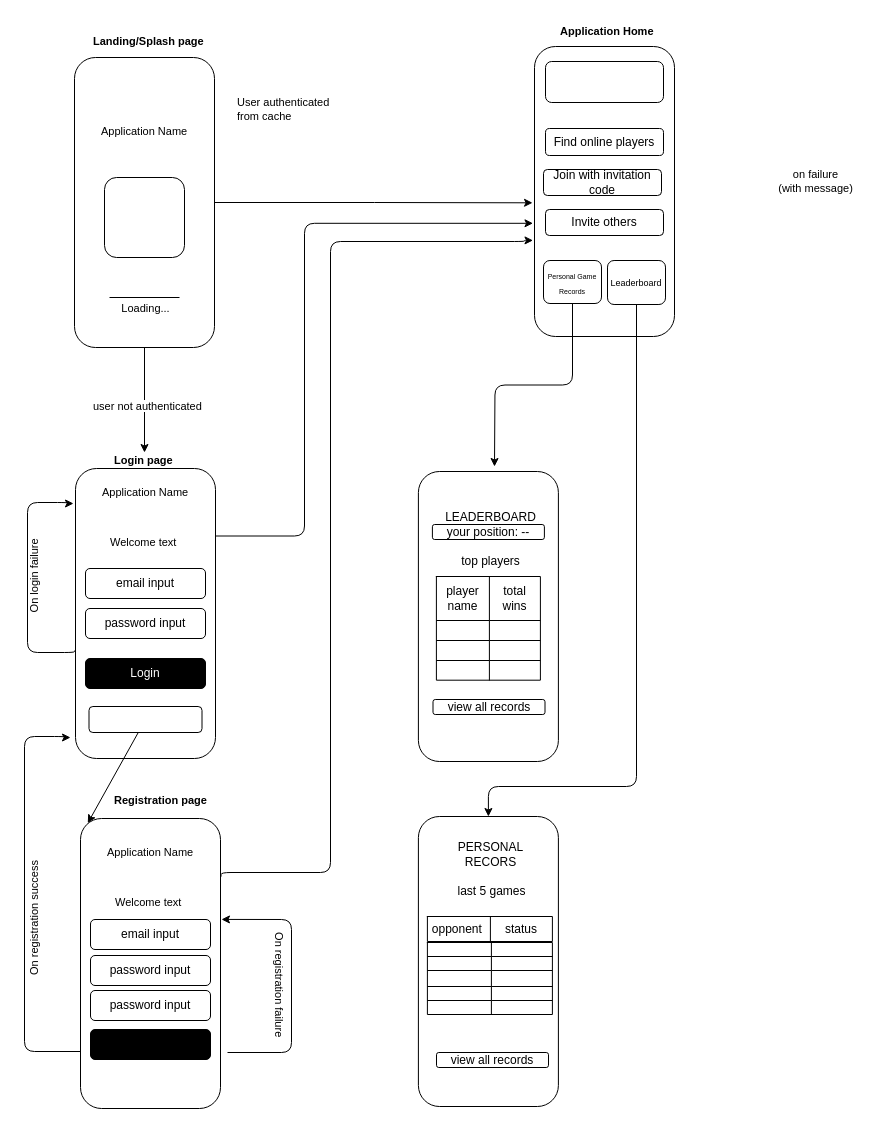
The diagram is 870 pixels wide and 1126 high, and some of its shapes have lost their labels. The shapes that lost their labels are listed below. From the top down, each one's centre as x and y in pixels, then its label:
At point 604,81: "app name / logo".
At point 144,217: "Logo".
At point 145,719: "create an account".
At point 150,1044: "Register".
